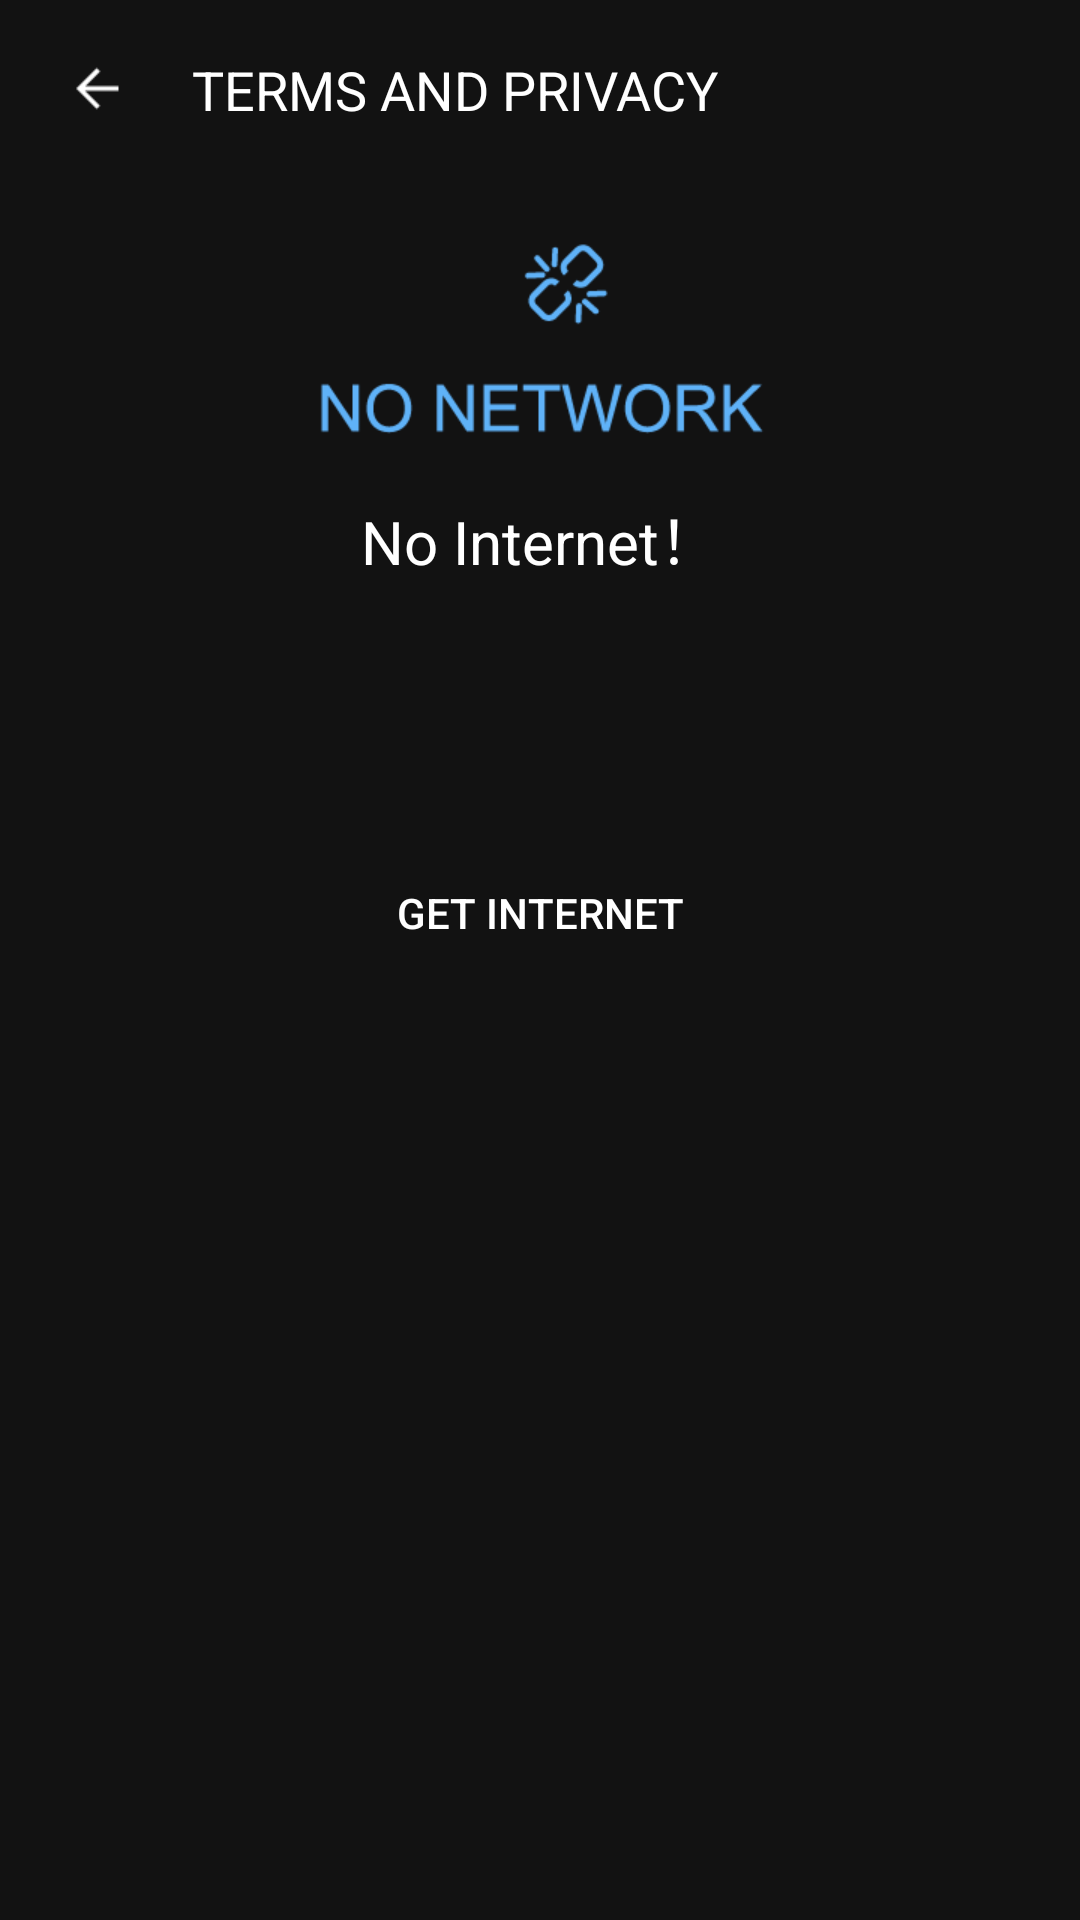

Icons on this 1080 x 1920 Android screen, each with the point to tap as (x,y):
back: (97,88)
